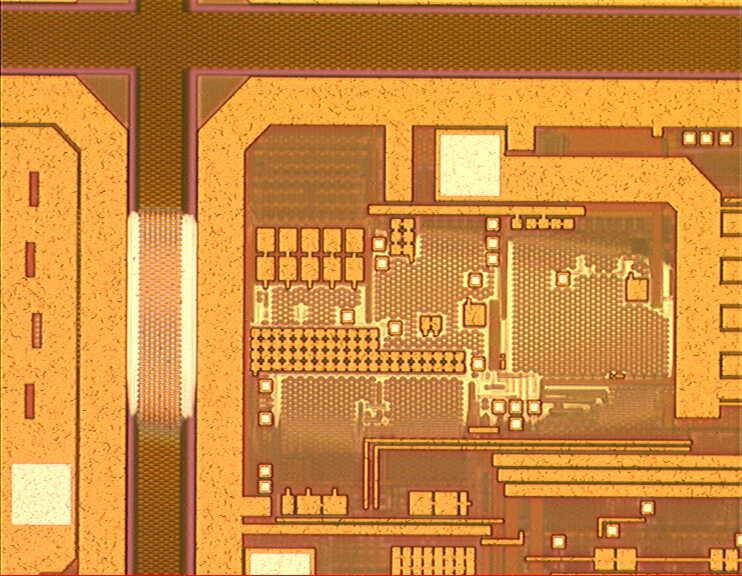BLOCK ETCH: (127, 212, 676, 457)
